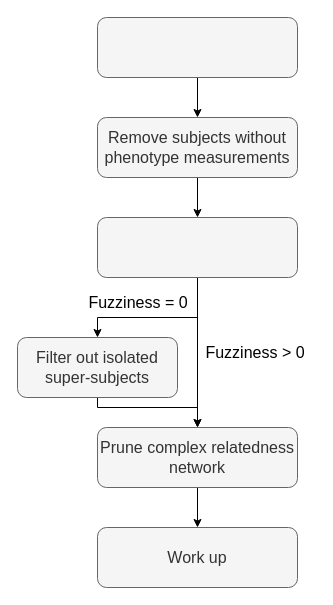
This 333x605 diagram has some shape labels left out. Here are the shapes that lost their labels. From the top down, the box of each, then its label:
(96, 16, 298, 78): Load Kinship and Phenotype Data
(96, 216, 298, 278): Filter out related pairs to only each other
